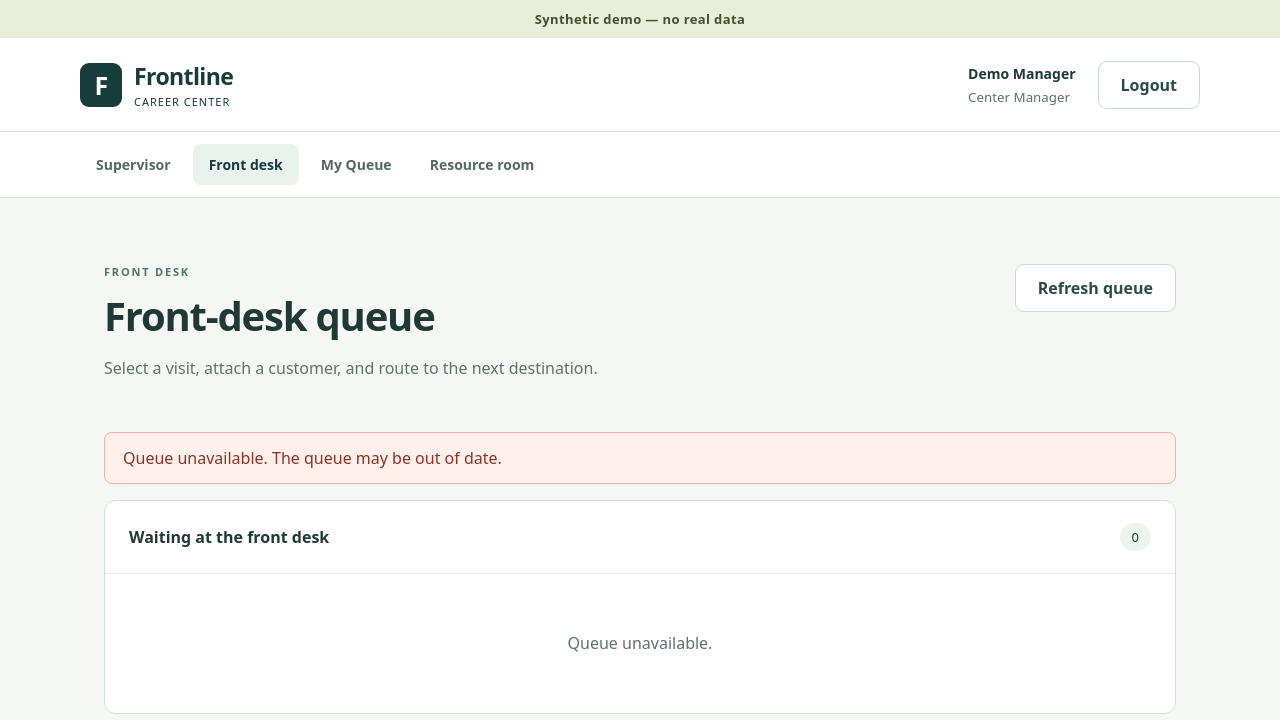
it: front desk reports a failed queue load and can refresh successfully
This screenshot has width=1280, height=720.
expect the message "Queue unavailable. The queue may be out of date." is shown: met, box left=104, top=432, right=1176, bottom=484
Step 1. Click the button "Refresh queue" → (1095, 288), box left=1015, top=264, right=1176, bottom=312
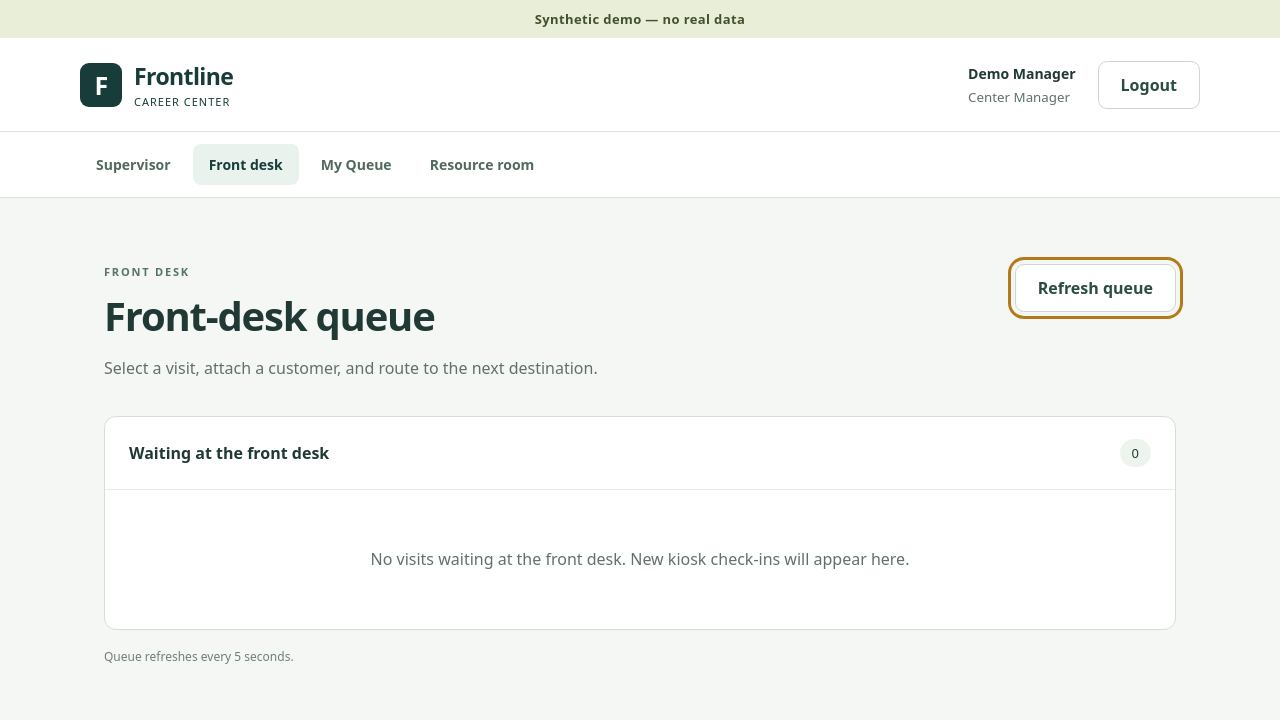
expect the text "No visits waiting at the front desk" is shown: met, box left=370, top=548, right=909, bottom=570
expect the message "Queue unavailable. The queue may be out of date." is gone: met
